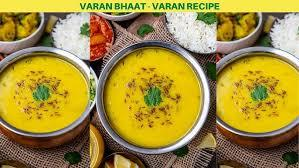varan: (107, 49, 207, 145), (0, 55, 97, 140), (218, 55, 299, 135)
